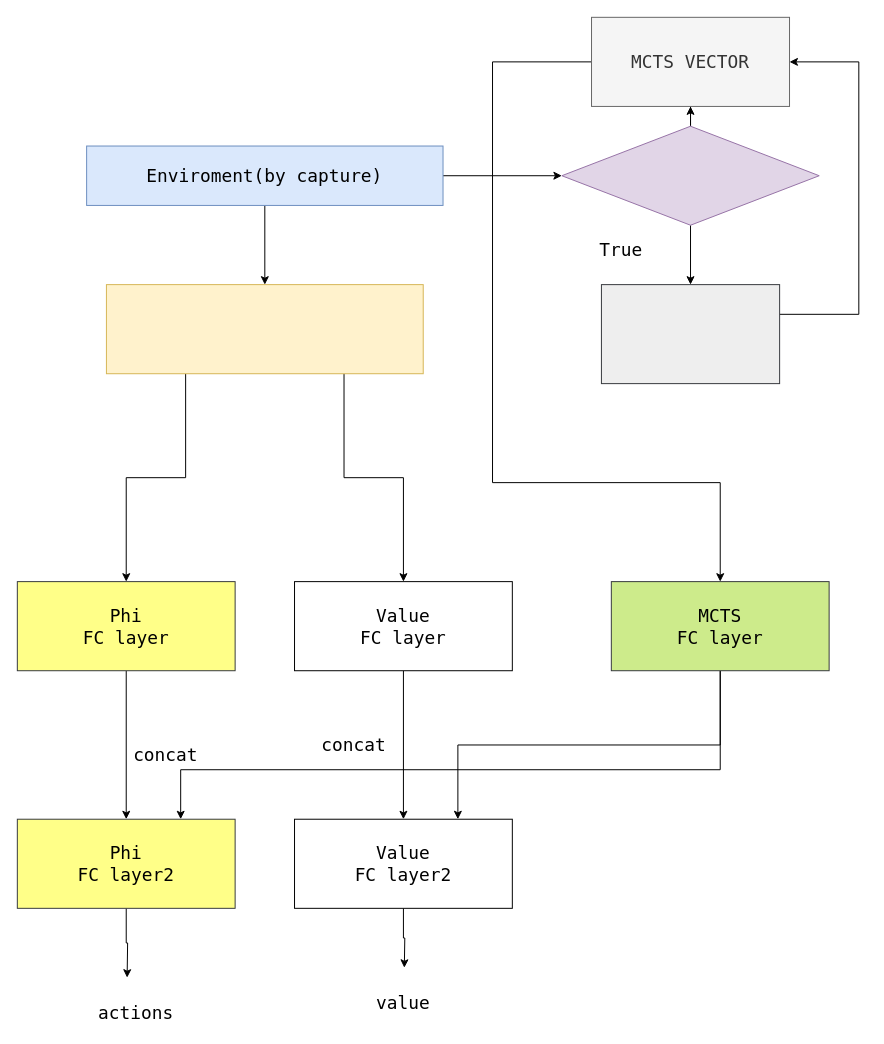
Image size: 884x1044. Some labels were removed from this diagram. The shapes that lost their labels are listed below. From the top down, each one's box as (x1, y1, x2, y2) in pixels, then its label:
(561, 125, 819, 225): if Level Up
(105, 284, 423, 374): Feature Encoder (Stacked CNN)
(600, 284, 780, 384): SELECTION&& Update vector
